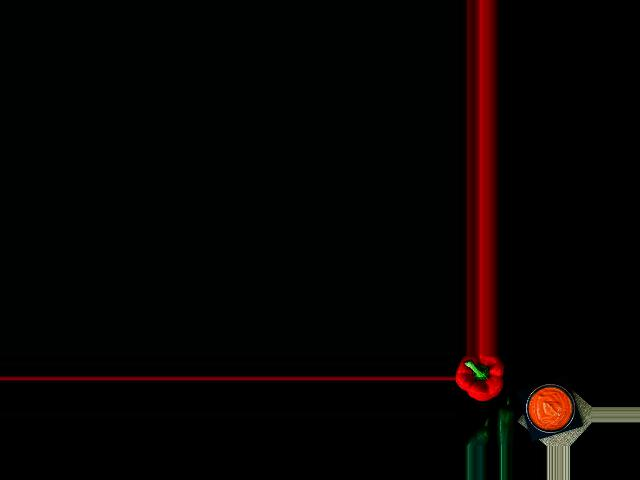bell_pepper: (456, 355, 504, 399)
